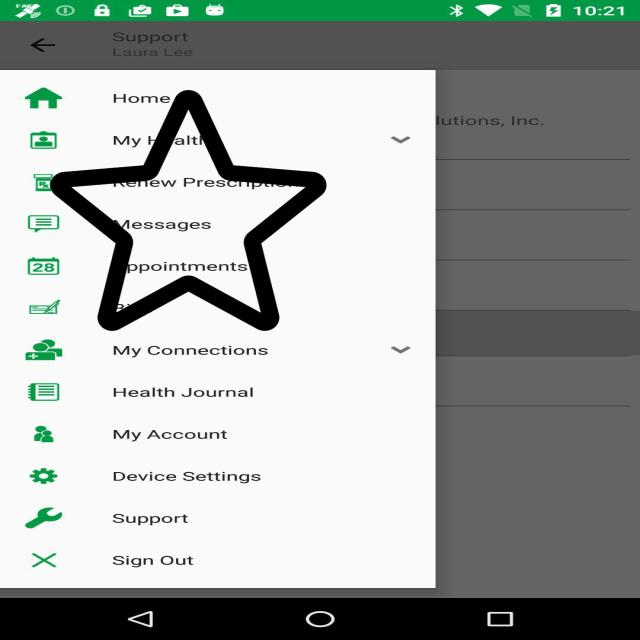forced continuity: (51, 85, 327, 336)
